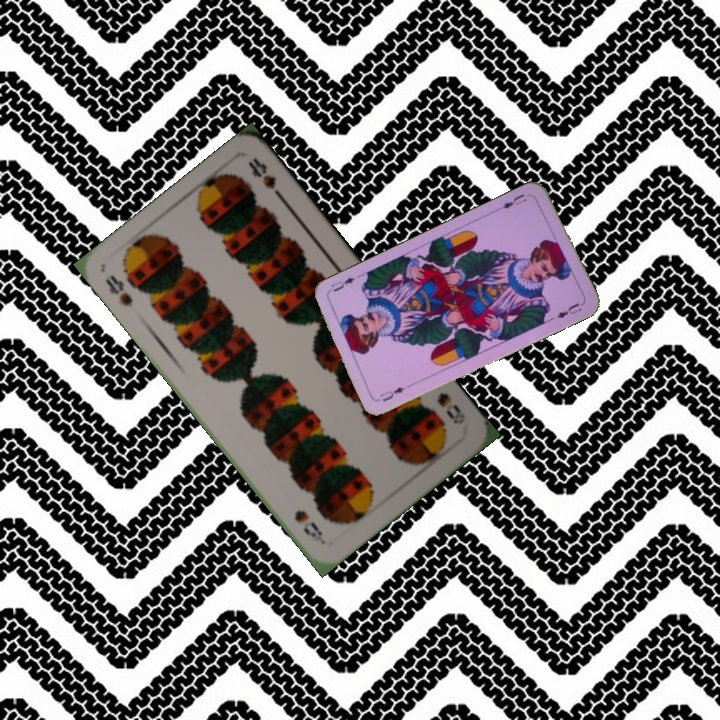EU: (494, 190, 529, 213), (376, 383, 407, 404)
S8: (432, 388, 468, 427), (101, 271, 136, 310)
